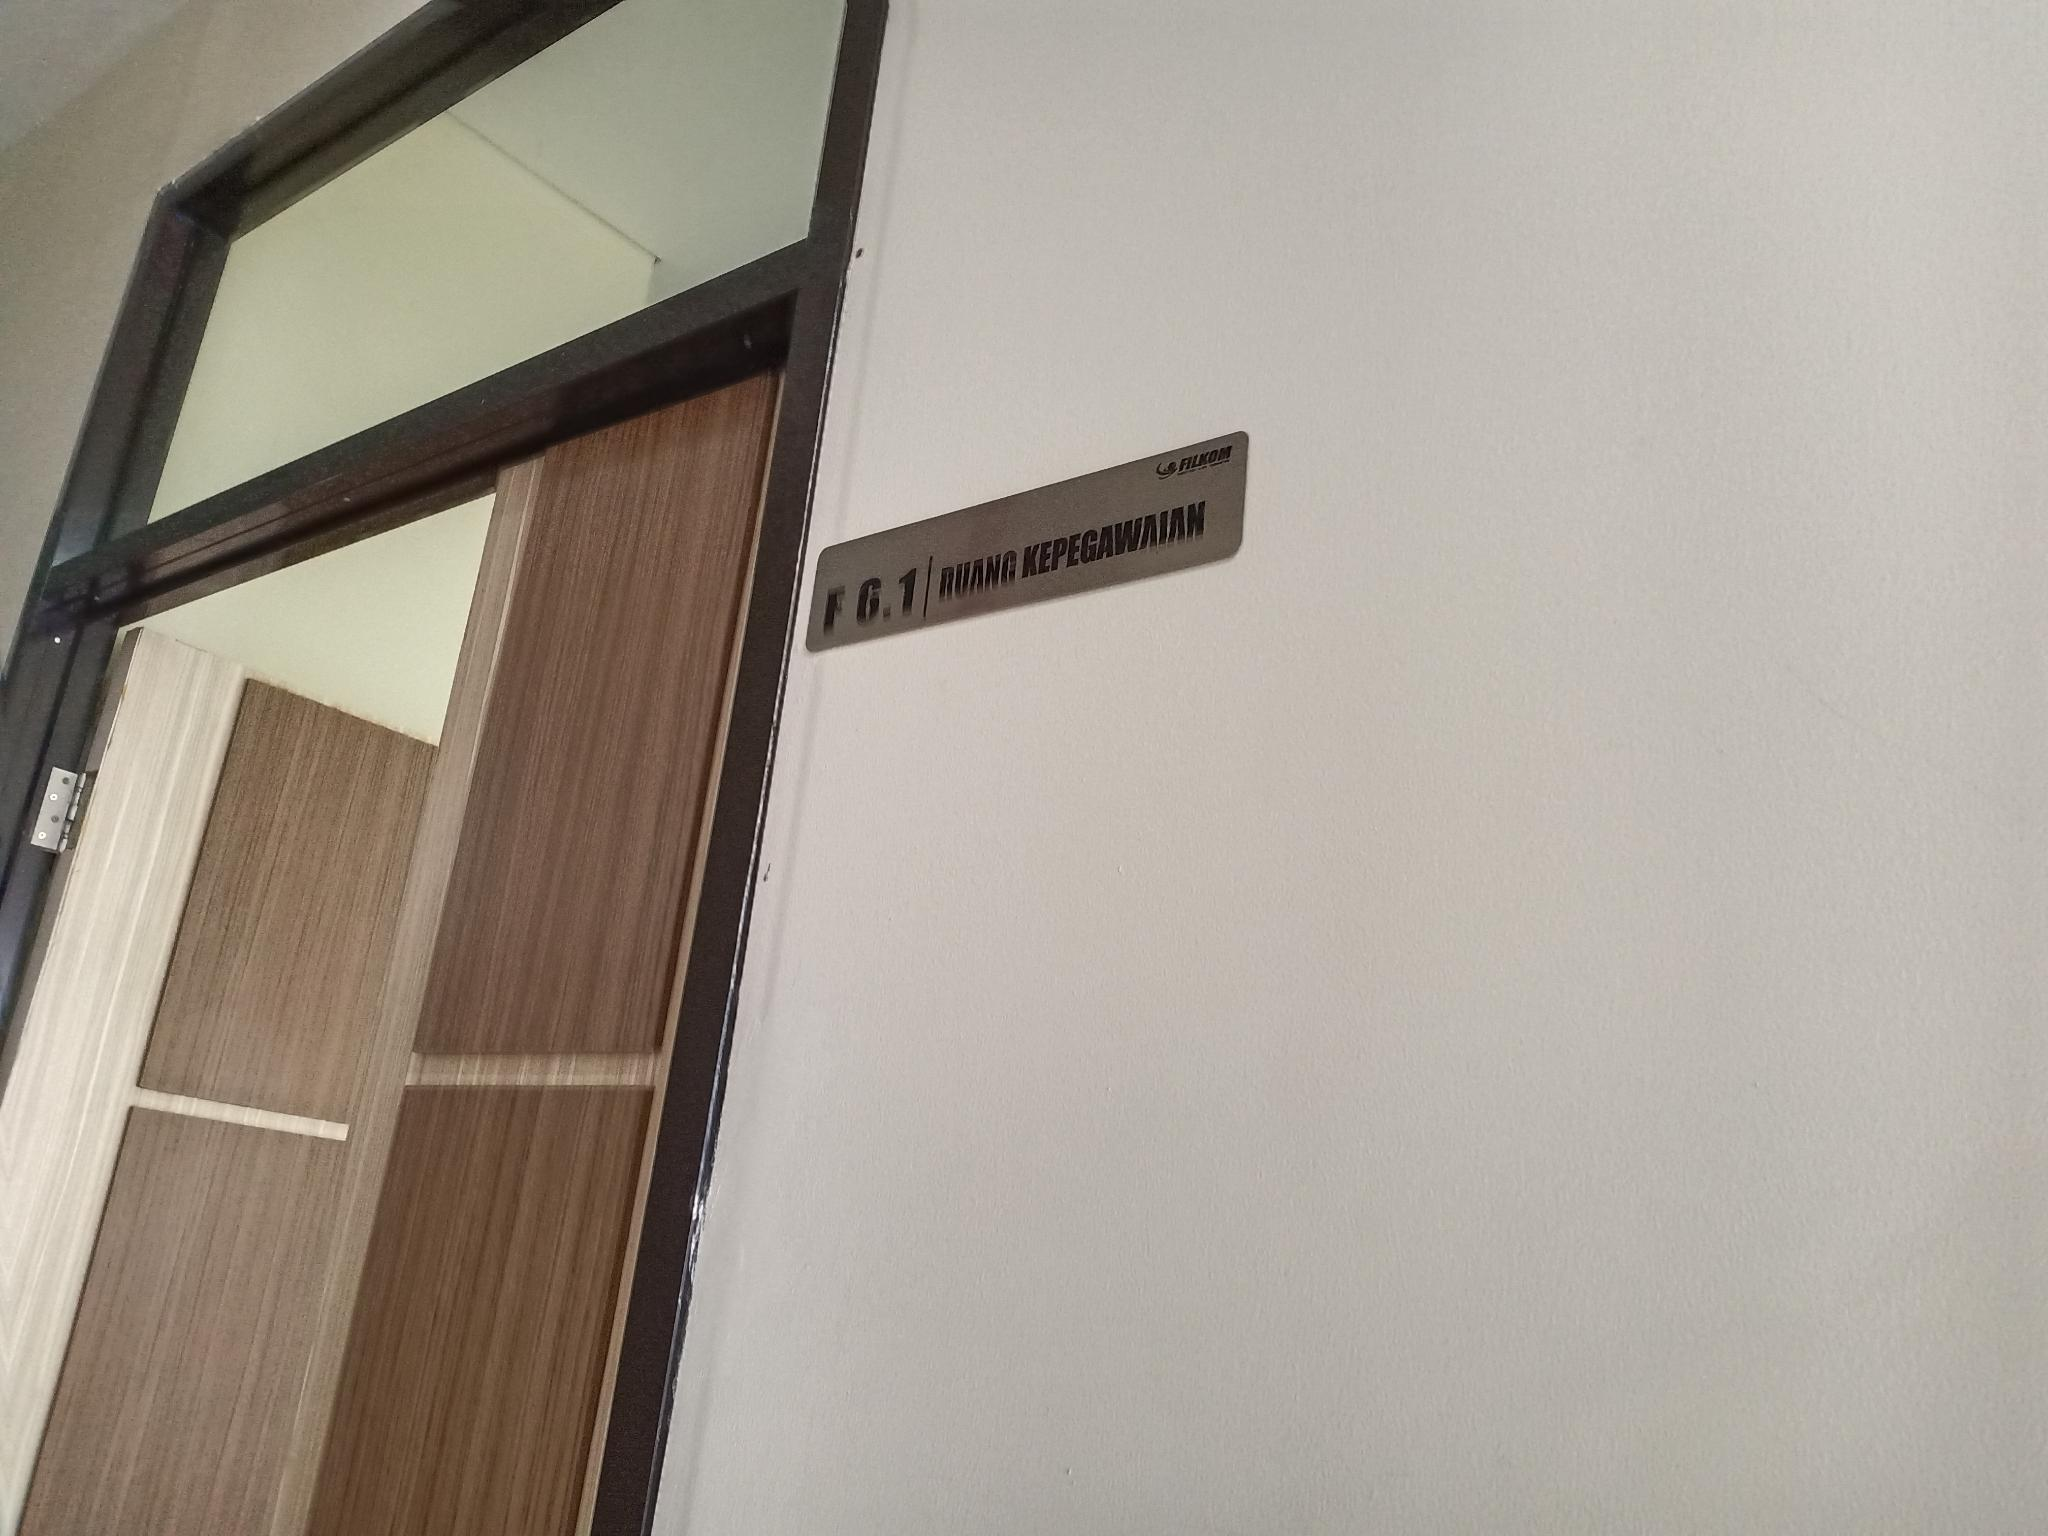plate: (805, 429, 1248, 655)
